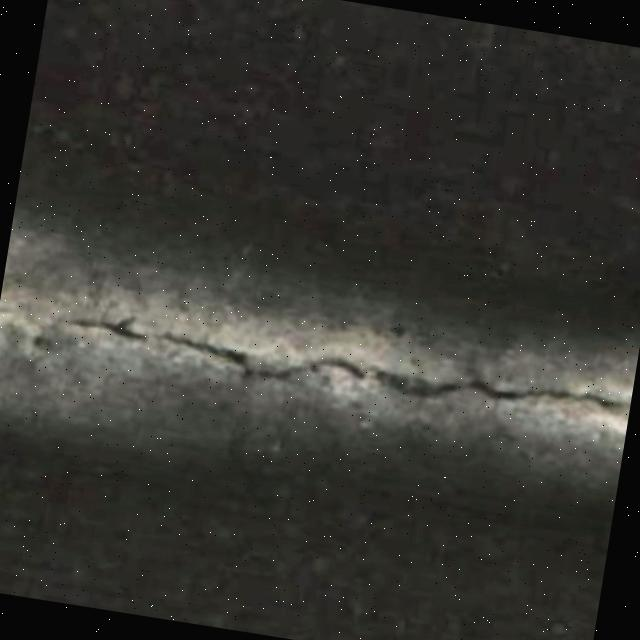Crack: (0, 270, 636, 457)
